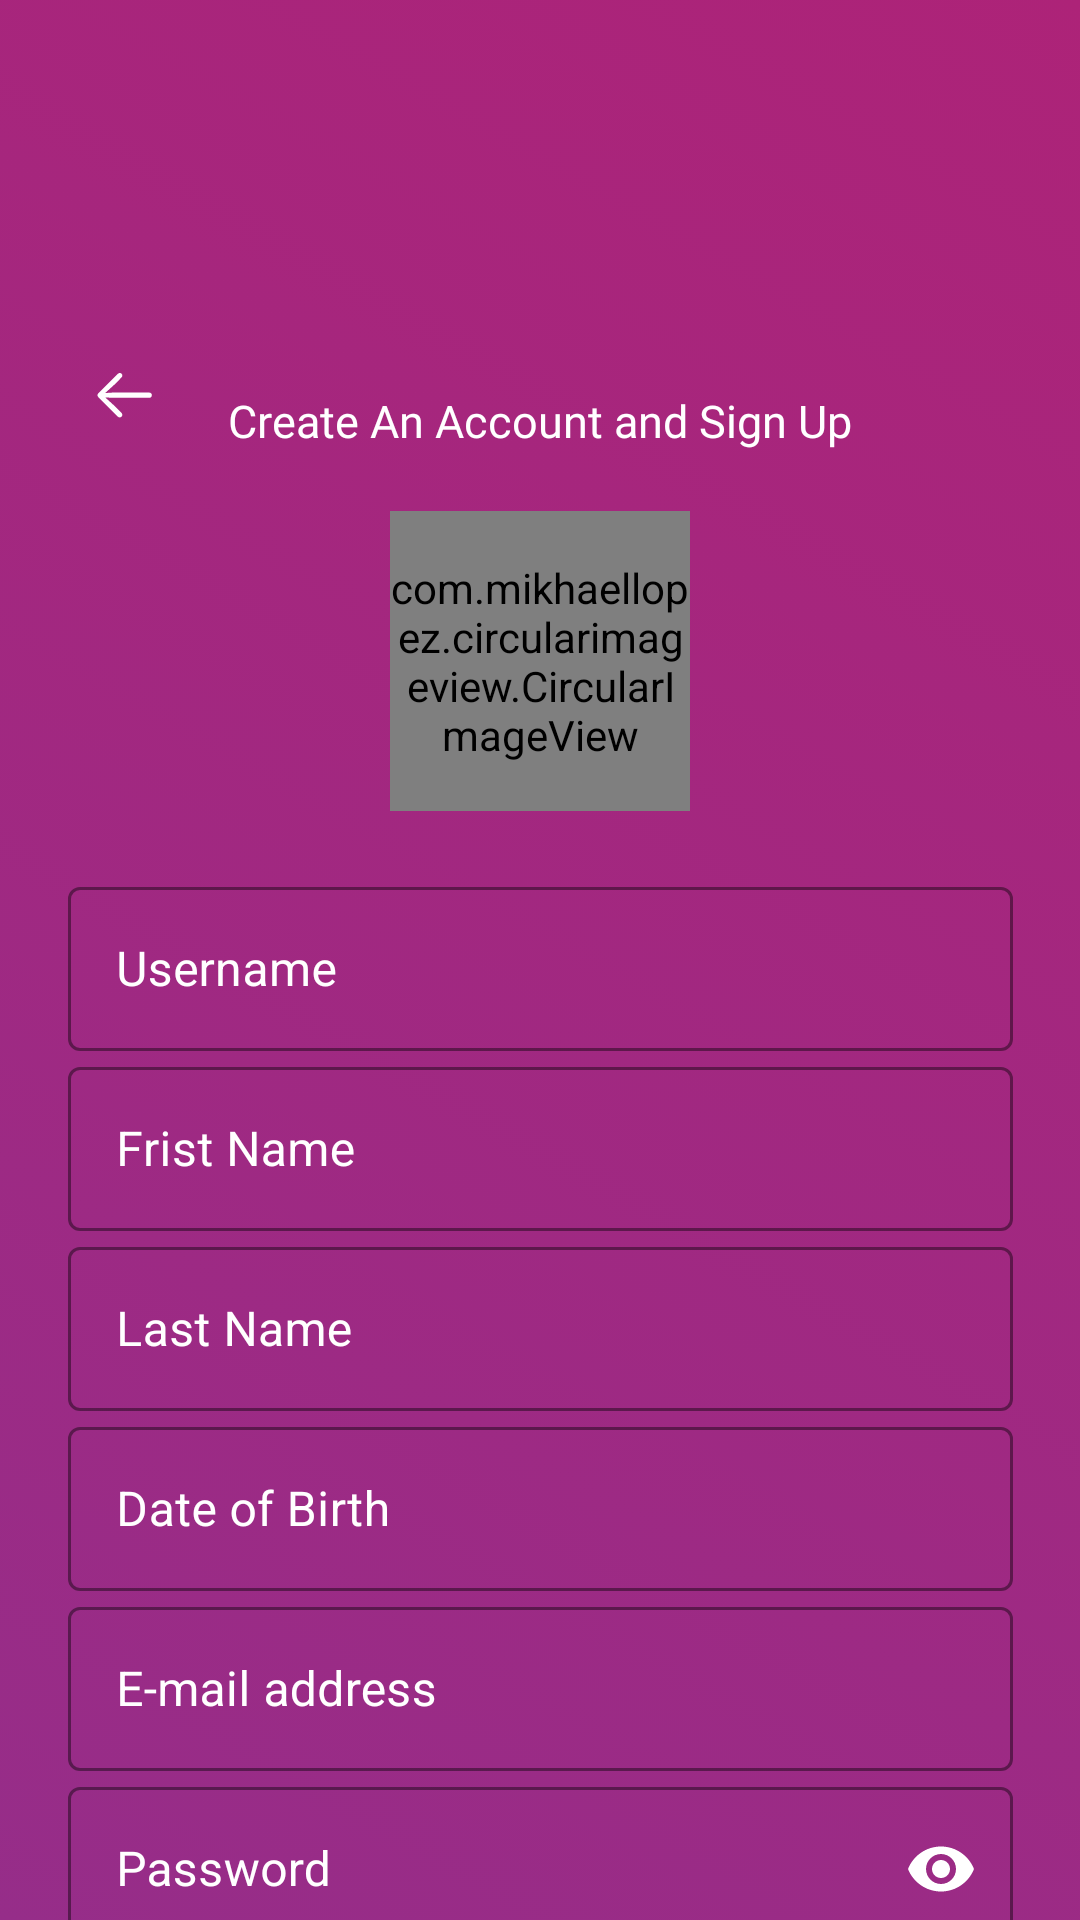

Named icons in this screenshot (1080w x 1920h) and their centers, point (x, y):
back arrow: point (124, 395)
